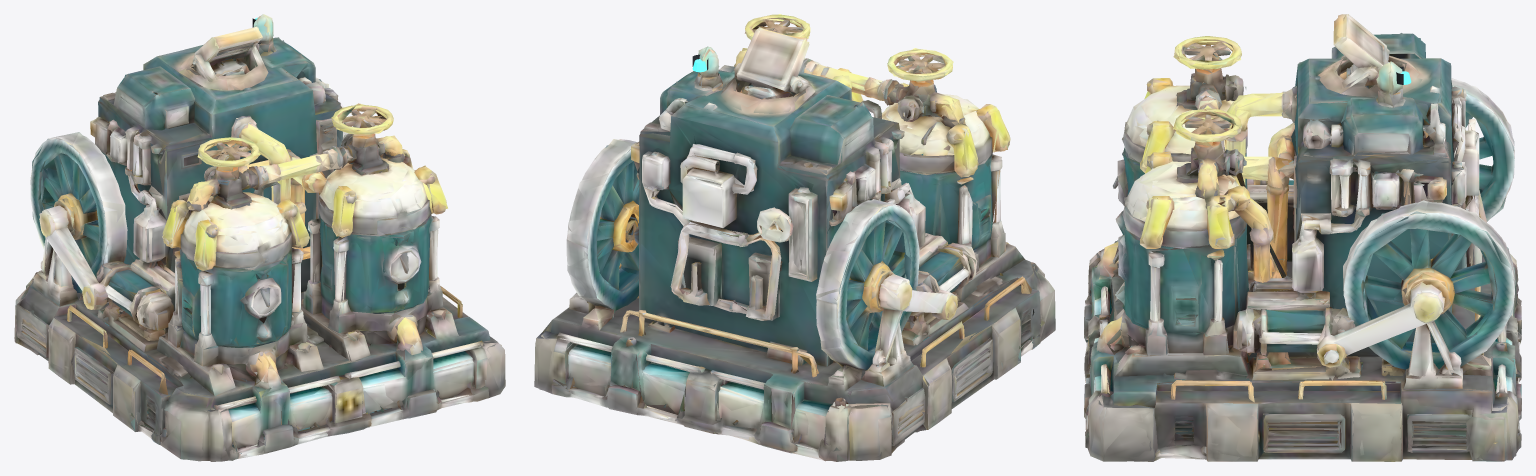
Rendered from plant.glb.
3 views of the same model, side by side, from view 1: azimuth 30°, elevation 25°; view 2: azimuth 150°, elevation 25°; view 3: azimuth 270°, elevation 25° (orthographic). The views are drawn at different scales.
Visible parts, largest first — view 1: SM_Body, SM_LOD, SM_Flywheel_Left, SM_Valve_Left, SM_Valve_Right, SM_Gauge_Left, SM_Gauge_Right, SM_Relief_Flap; view 2: SM_Body, SM_LOD, SM_Flywheel_Left, SM_Flywheel_Right, SM_Valve_Left, SM_Relief_Flap, SM_Valve_Right; view 3: SM_Body, SM_LOD, SM_Flywheel_Right, SM_Flywheel_Left, SM_Valve_Left, SM_Valve_Right, SM_Piston, SM_Relief_Flap.
Part boxes in pixels (x1,y1,x2,y2): SM_Body: [14, 15, 504, 461]; SM_LOD: [14, 14, 505, 460]; SM_Flywheel_Left: [30, 135, 135, 311]; SM_Valve_Left: [198, 137, 258, 167]; SM_Valve_Right: [332, 105, 393, 134]; SM_Gauge_Left: [242, 268, 281, 316]; SM_Gauge_Right: [383, 236, 420, 281]; SM_Relief_Flap: [194, 26, 259, 65]; SM_Body: [534, 41, 1055, 461]; SM_LOD: [534, 14, 1055, 460]; SM_Flywheel_Left: [816, 185, 921, 384]; SM_Flywheel_Right: [567, 140, 639, 325]; SM_Valve_Left: [887, 49, 952, 81]; SM_Relief_Flap: [737, 27, 809, 85]; SM_Valve_Right: [745, 14, 810, 39]; SM_Body: [1084, 18, 1521, 461]; SM_LOD: [1084, 14, 1521, 461]; SM_Flywheel_Right: [1341, 200, 1513, 373]; SM_Flywheel_Left: [1458, 81, 1513, 221]; SM_Valve_Left: [1174, 36, 1241, 69]; SM_Valve_Right: [1173, 108, 1241, 142]; SM_Piston: [1290, 321, 1358, 367]; SM_Relief_Flap: [1336, 14, 1387, 73].
Size of the model in its own units: 0.9573 by 0.8837 by 0.9993.
Materials: 4 (2 with a texture image).
